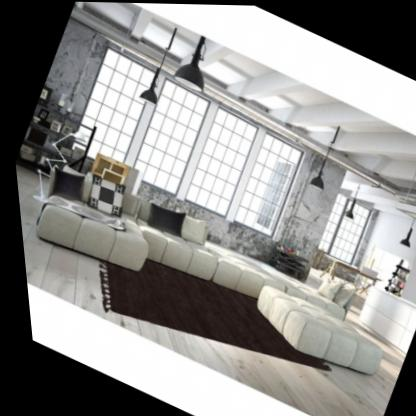Sofa: (17, 126, 415, 397)
Window: (73, 45, 304, 236)
Wooden floor: (16, 206, 398, 416)
